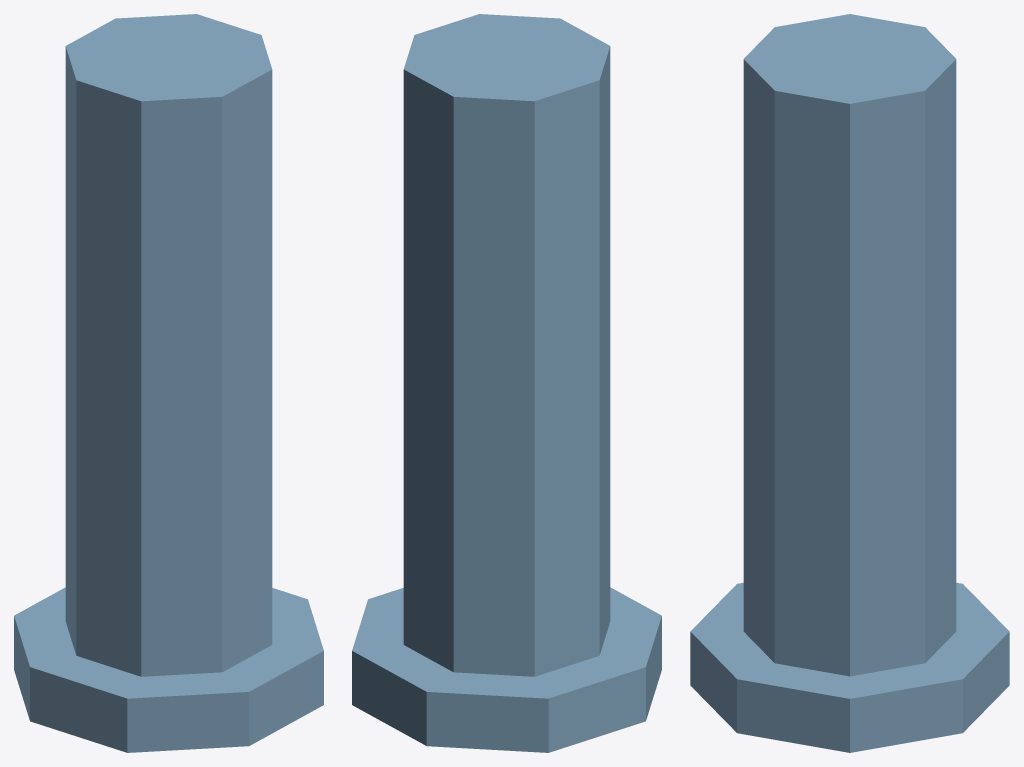
File: Sofa_Feet.fbx
3 views of the same model, side by side, from view 1: azimuth 30°, elevation 25°; view 2: azimuth 150°, elevation 25°; view 3: azimuth 270°, elevation 25° (orthographic).
Visible parts, largest first — view 1: Sofa_Feet; view 2: Sofa_Feet; view 3: Sofa_Feet.
Part boxes in pixels (bbox=[...]): Sofa_Feet: bbox=[14, 14, 323, 752]; Sofa_Feet: bbox=[352, 14, 661, 752]; Sofa_Feet: bbox=[690, 14, 1009, 752].
Bounding box in the file's own units: 8.31 × 18.01 × 8.31.
